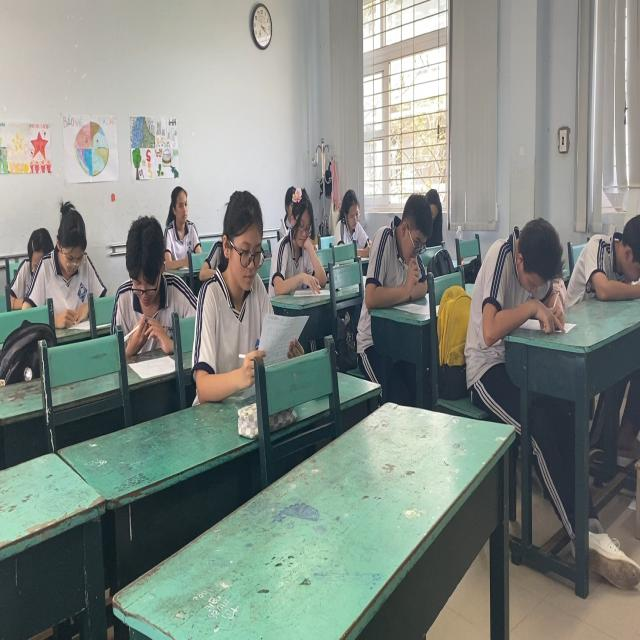not_cheating: (201, 181, 282, 370), (474, 204, 568, 329), (115, 208, 183, 360), (21, 199, 106, 319), (364, 185, 432, 319), (275, 178, 323, 278), (166, 180, 205, 260), (333, 181, 374, 246)
